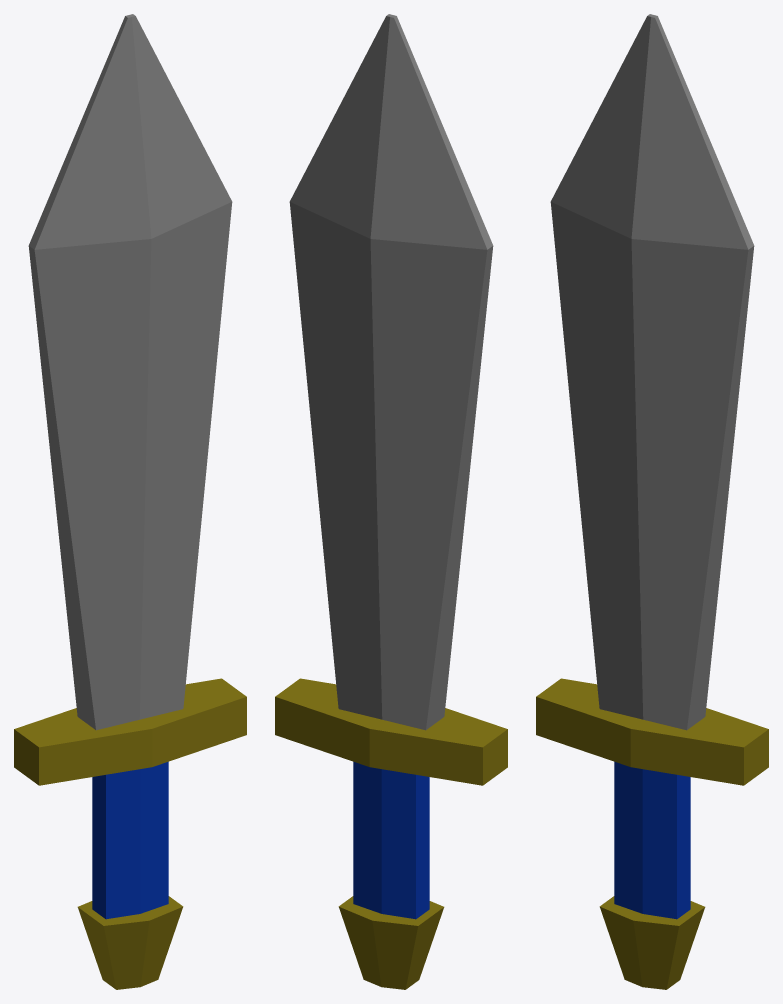
File: Sword.fbx
The picture shows the model from 3 angles, left to right: view 1: azimuth 30°, elevation 25°; view 2: azimuth 150°, elevation 25°; view 3: azimuth 330°, elevation 25°; orthographic projection.
Visible parts, largest first — view 1: Sword; view 2: Sword; view 3: Sword.
Boxes of the visible parts, x1,y1,x2,y2 form: Sword: (14,14,246,989); Sword: (275,14,507,989); Sword: (536,14,768,989).
Size of the model in its own units: 103 by 459 by 37.5.
